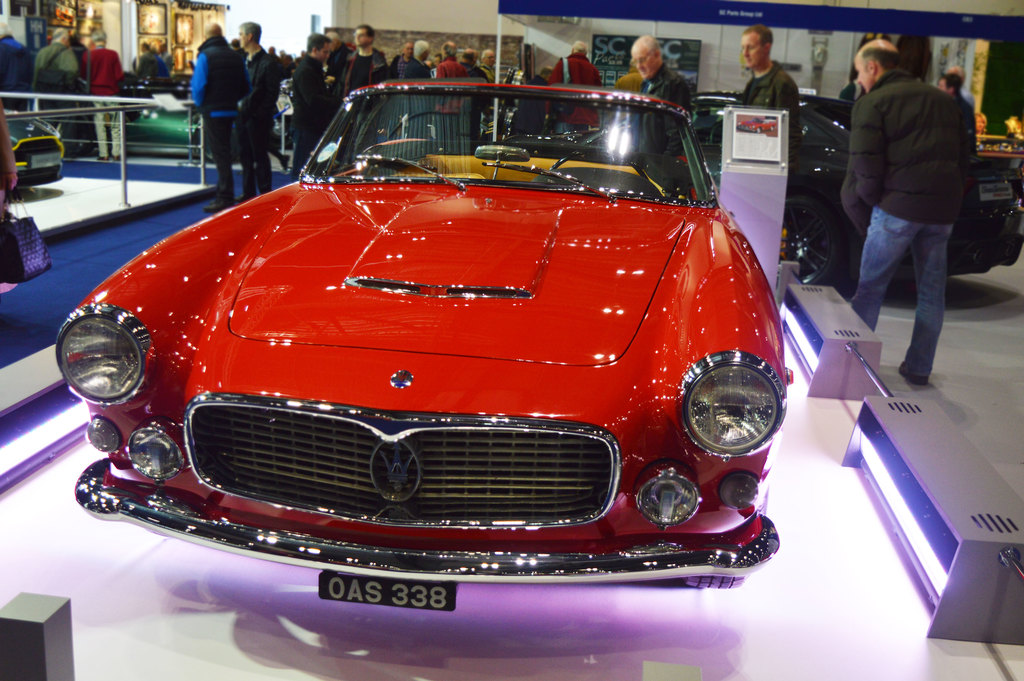Car: (46, 83, 829, 631), (492, 94, 1023, 282), (65, 76, 238, 167), (135, 92, 261, 156), (0, 108, 66, 193)
